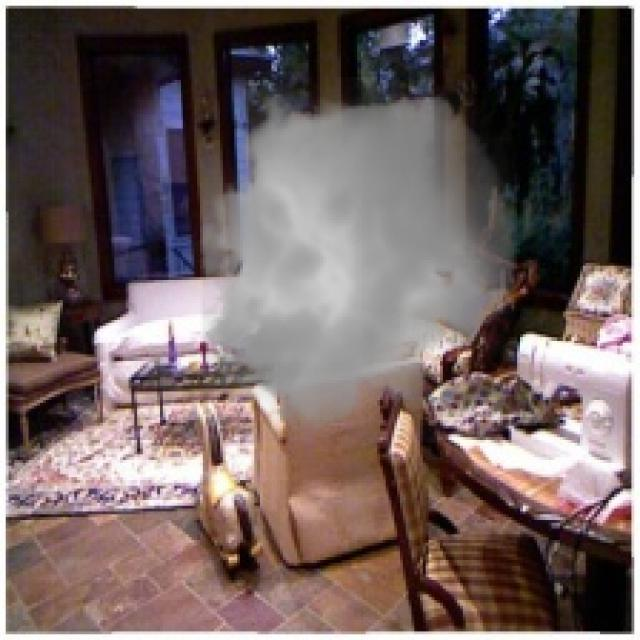Smoke: (186, 77, 528, 443)
